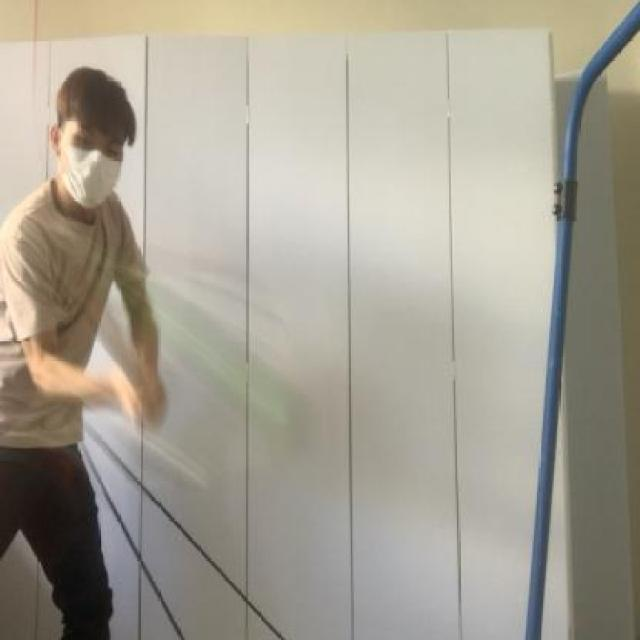baseball: (142, 262, 315, 443)
